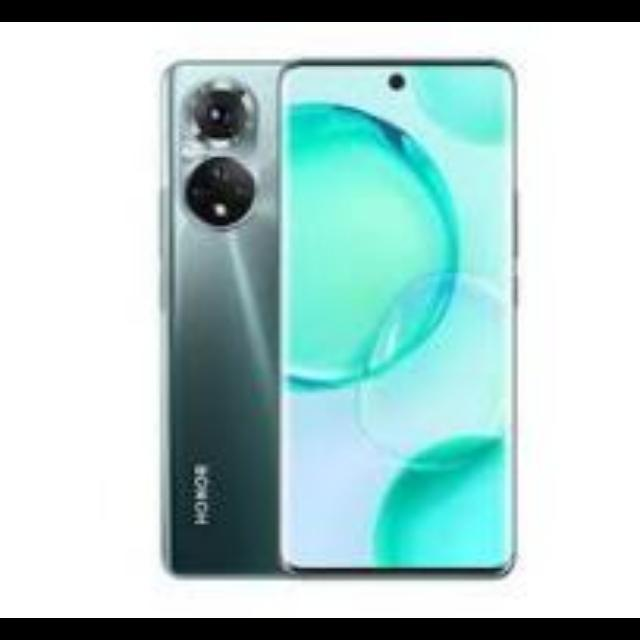Phone: (290, 60, 520, 580), (154, 61, 278, 572)
